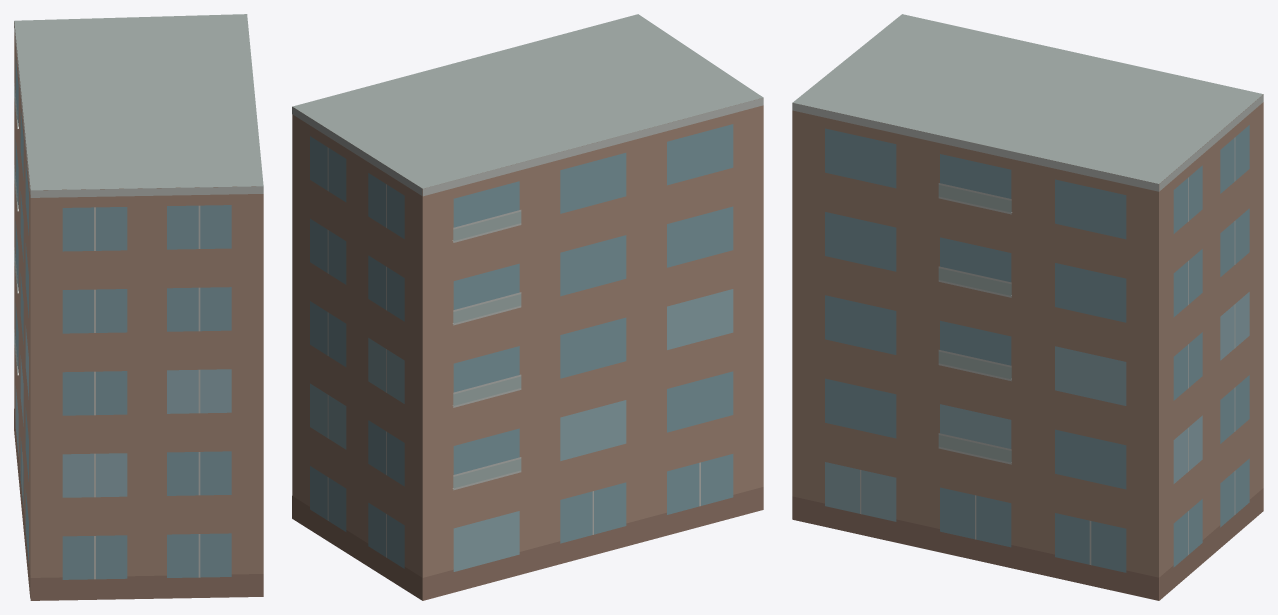
Rendered from survey-upis-33041570.glb.
3 views of the same model, side by side, from view 1: azimuth 30°, elevation 25°; view 2: azimuth 150°, elevation 25°; view 3: azimuth 270°, elevation 25° (orthographic).
Visible parts, largest first — view 1: survey-upis-33041570.tmp; view 2: survey-upis-33041570.tmp; view 3: survey-upis-33041570.tmp.
Boxes of the visible parts, bbox=[...] form: survey-upis-33041570.tmp: bbox=[14, 14, 263, 600]; survey-upis-33041570.tmp: bbox=[292, 14, 763, 600]; survey-upis-33041570.tmp: bbox=[792, 14, 1263, 600].
Size of the model in its own units: 11.47 by 13.1 by 13.43.
